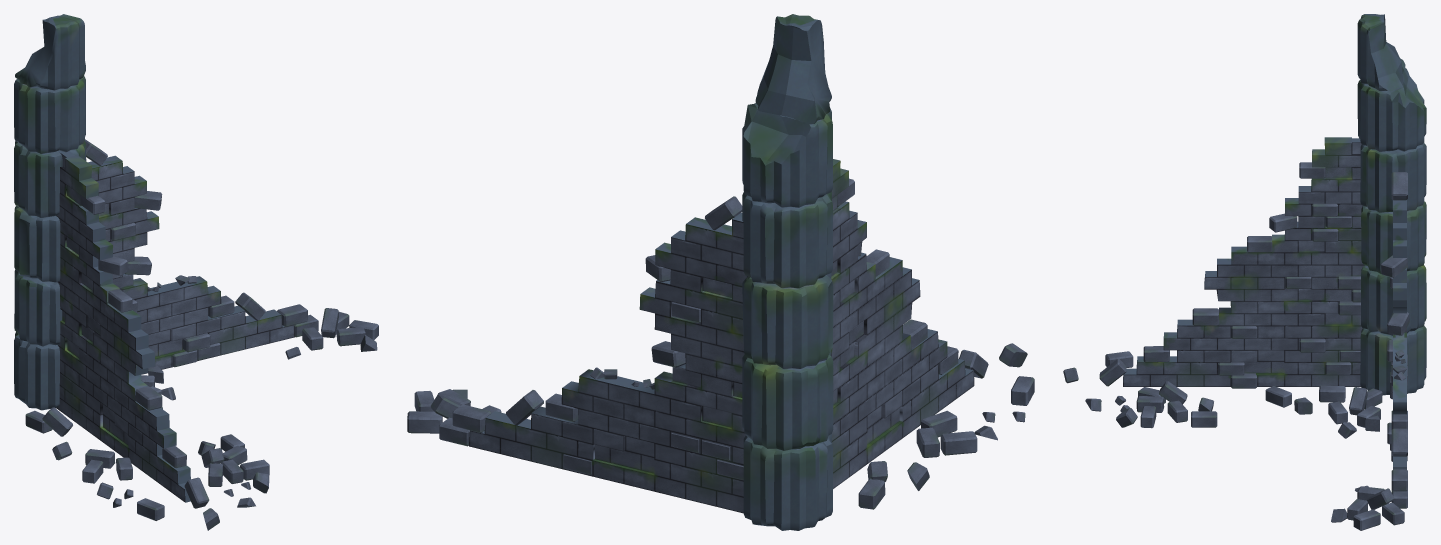
The model's file is wall_corner_1.obj.
3 renders of one model, left to right at view 1: azimuth 30°, elevation 25°; view 2: azimuth 150°, elevation 25°; view 3: azimuth 270°, elevation 25°, orthographic. The views are drawn at different scales.
Visible parts, largest first — view 1: Wall7_Estructura1_0, Pilar7_Material.001_0, Bricks7_Estructura1_0; view 2: Wall7_Estructura1_0, Pilar7_Material.001_0, Bricks7_Estructura1_0; view 3: Wall7_Estructura1_0, Pilar7_Material.001_0, Bricks7_Estructura1_0.
Boxes of the visible parts, x1,y1,x2,y2 form: Wall7_Estructura1_0: (56,150,294,502); Pilar7_Material.001_0: (14,14,85,410); Bricks7_Estructura1_0: (25,139,378,530); Wall7_Estructura1_0: (469,159,974,513); Pilar7_Material.001_0: (742,14,833,530); Bricks7_Estructura1_0: (407,178,1034,509); Wall7_Estructura1_0: (1123,137,1406,469); Pilar7_Material.001_0: (1357,14,1426,395); Bricks7_Estructura1_0: (1063,162,1409,530).
Bounding box in the file's own units: 3.06 × 3.08 × 2.7.
